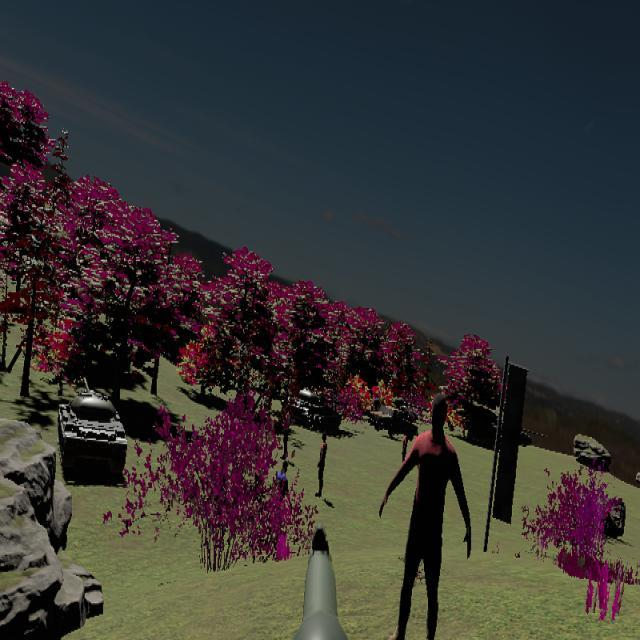Tank: (57, 377, 127, 477), (283, 385, 341, 431)
car: (370, 403, 419, 441)
